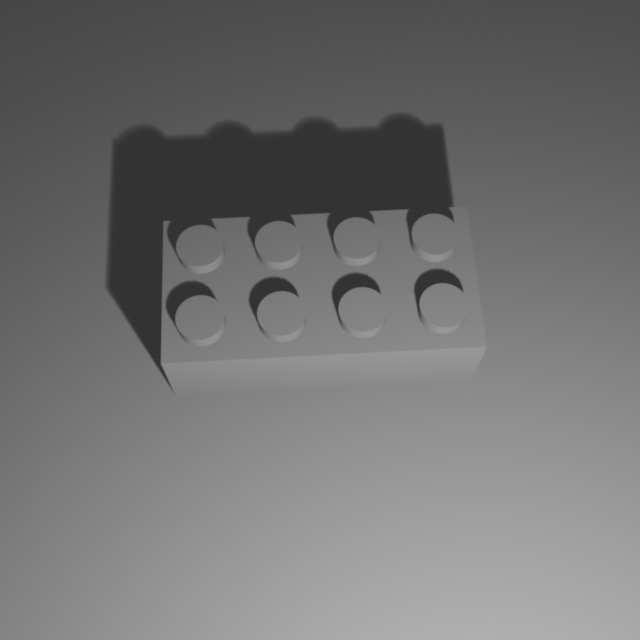lego_2x4: (158, 198, 490, 396)
